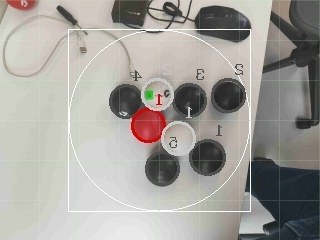Pelota blanca: (1, 15, 69, 78), (161, 119, 197, 156), (140, 77, 175, 111), (0, 0, 9, 24)
Pelota negra: (249, 161, 320, 240), (194, 5, 253, 42), (188, 137, 227, 177), (209, 77, 247, 114), (285, 0, 320, 40), (174, 81, 209, 118), (144, 151, 181, 186), (110, 83, 143, 118)
Pelota roja: (130, 107, 167, 144), (5, 0, 41, 12)
